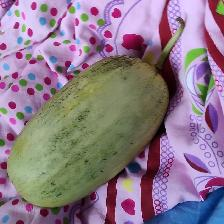gua: (20, 52, 121, 178)
